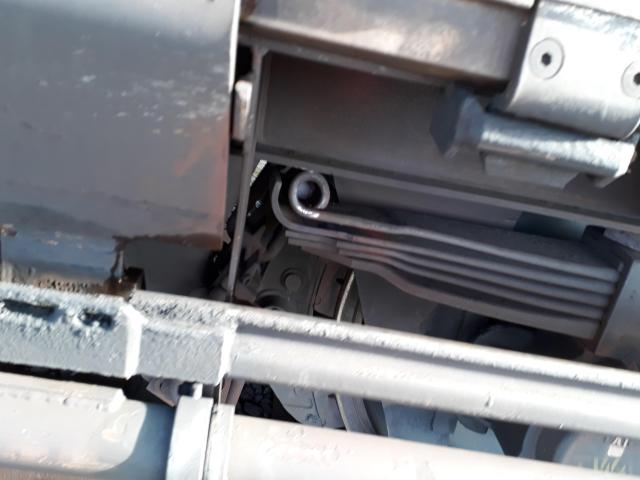blattfederww: (261, 165, 583, 334)
